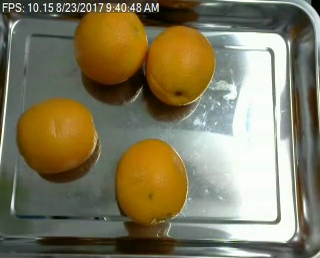Orange: (115, 138, 188, 225), (17, 97, 98, 175), (74, 4, 149, 85), (145, 25, 215, 106)
